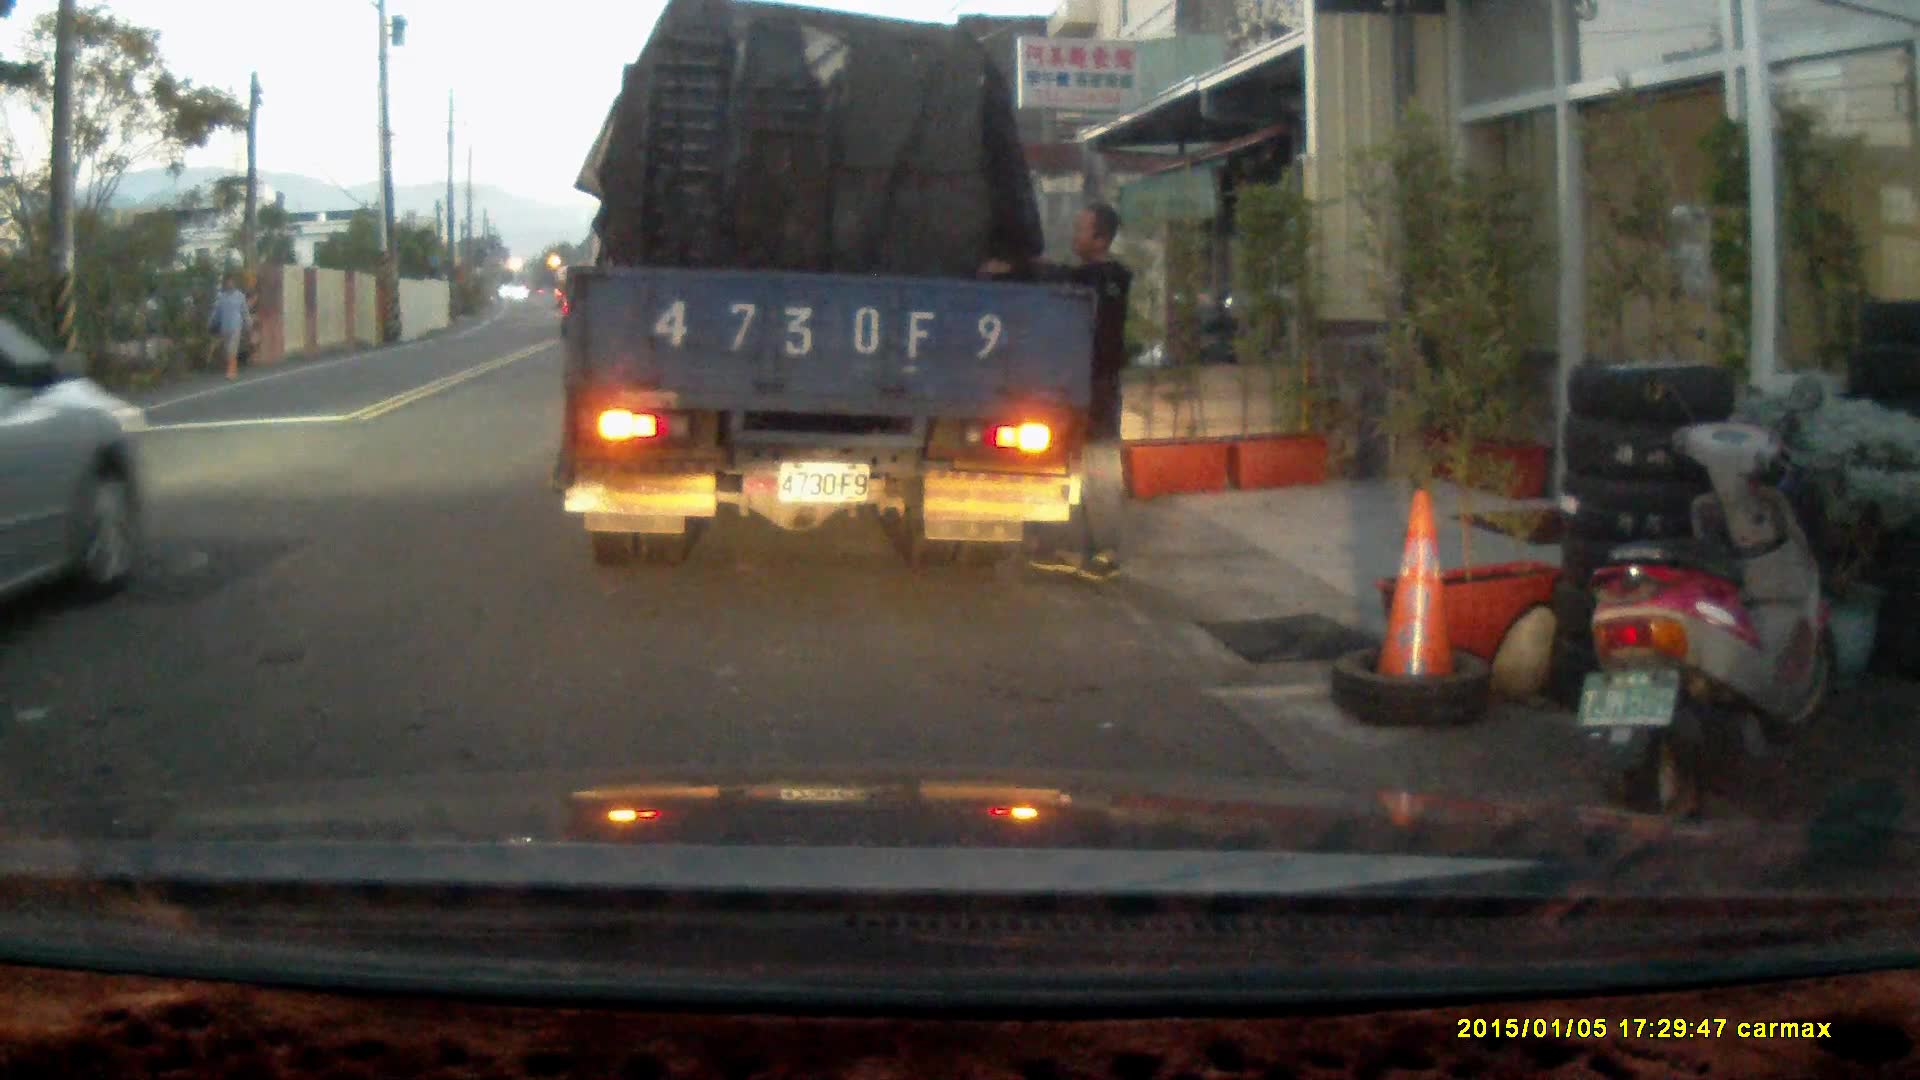pedestrian: (984, 200, 1128, 581), (210, 270, 250, 382)
vehicle: (565, 23, 1097, 572), (3, 314, 152, 610)
